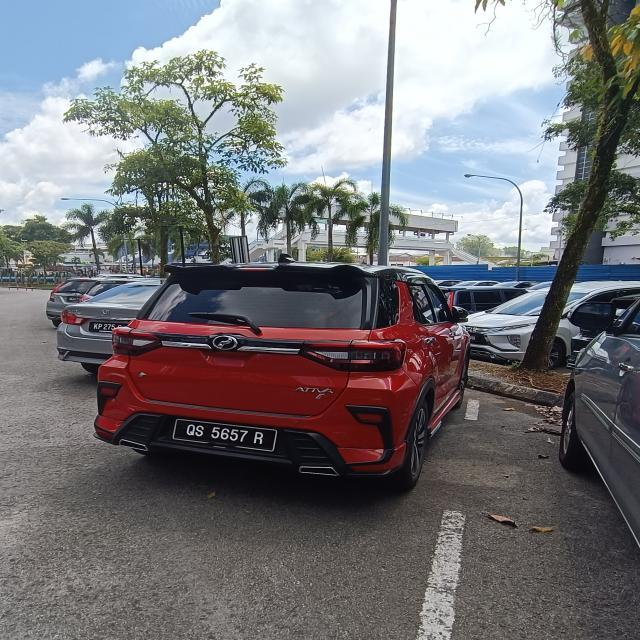PeroduaAtiva: (91, 256, 472, 490)
